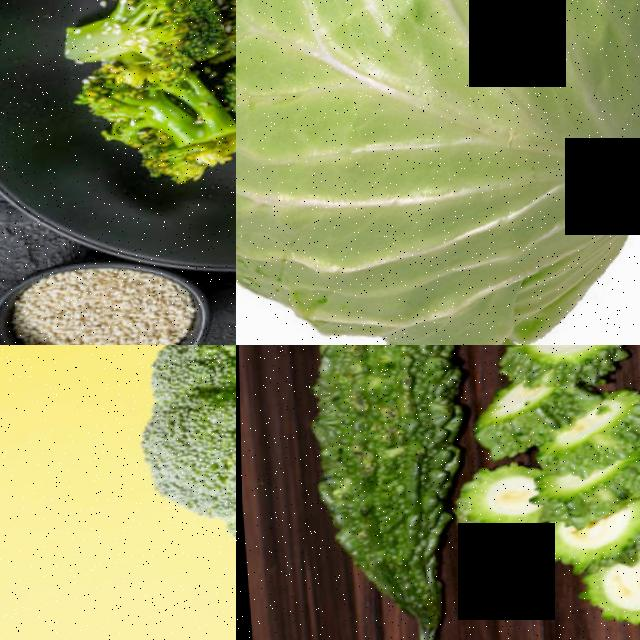bitter gourd: (290, 345, 445, 640), (473, 387, 577, 461), (451, 473, 532, 548), (545, 470, 640, 529), (537, 523, 640, 577), (587, 572, 640, 640)
broccoli: (88, 345, 236, 610), (64, 0, 211, 84)
cabbage: (236, 0, 640, 345)
